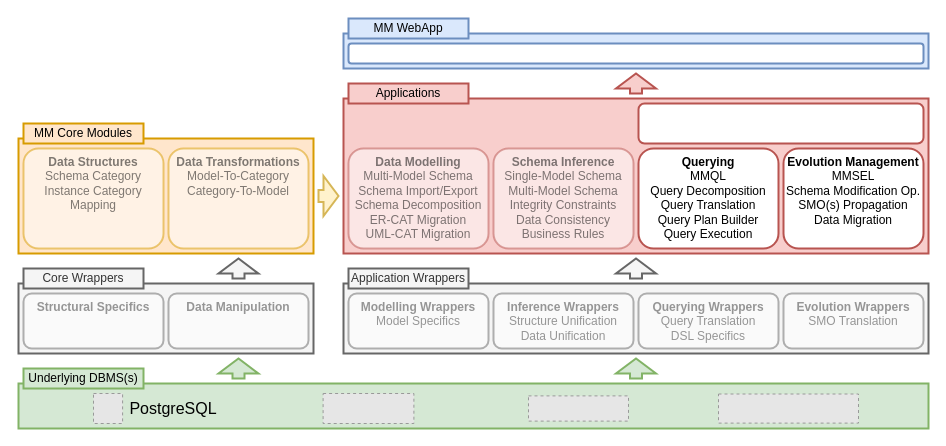
Some shapes in this 946 by 446 pixel diagram are drawn without their labels. Grey dashed boxes stand in for pictures. The shapes that lost their labels are listed below. From the top down, each one's box as (x1, y1, x2, y2) in pixels, then its label:
(347, 42, 924, 64): Web User Interface
(637, 102, 924, 144): SMO(s) propagation to MMQL Query Translation
